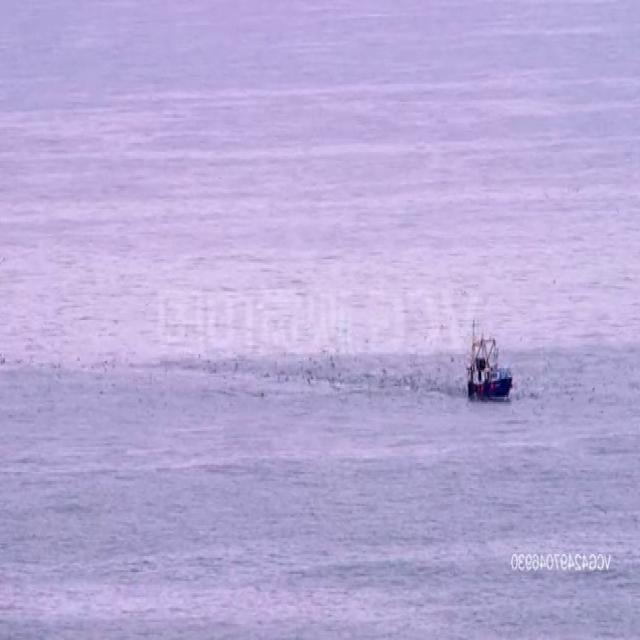houseboat: (464, 327, 514, 398)
